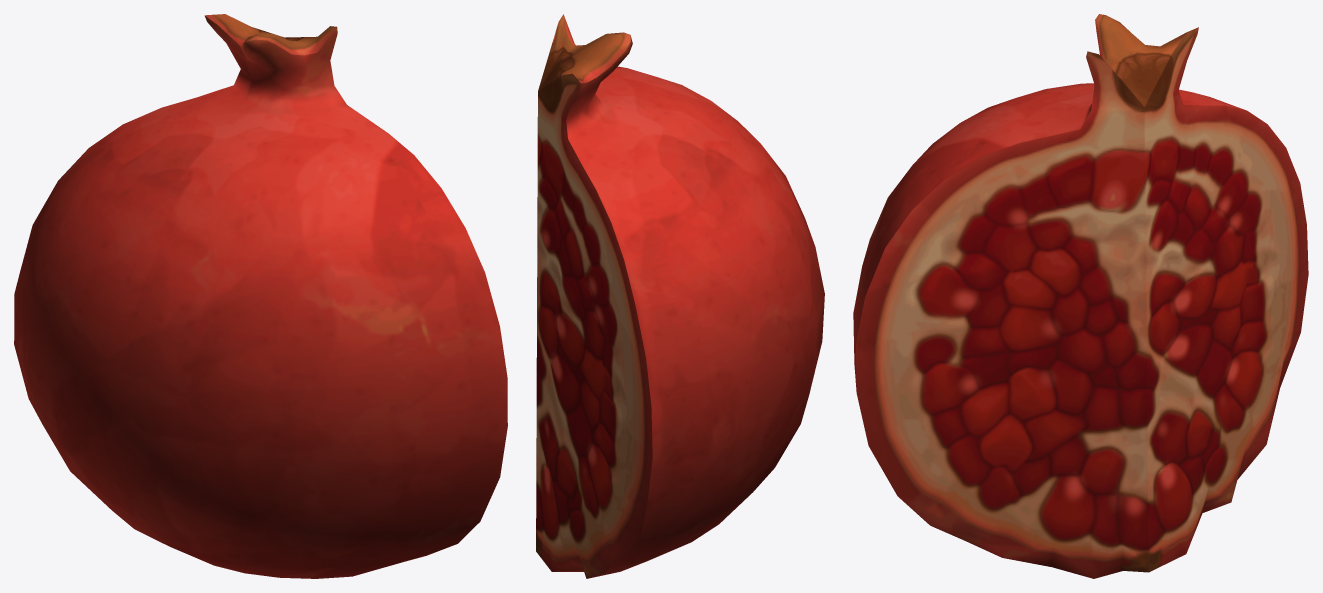
The model's file is SM_PomegranateCutA.fbx.
The picture shows the model from 3 angles, left to right: view 1: azimuth 30°, elevation 25°; view 2: azimuth 150°, elevation 25°; view 3: azimuth 270°, elevation 25°; orthographic projection. The views are drawn at different scales.
Parts seen in each view (by area): view 1: SM_PomegranateCutA; view 2: SM_PomegranateCutA; view 3: SM_PomegranateCutA.
Boxes of the visible parts, x1,y1,x2,y2 form: SM_PomegranateCutA: (14,14,507,578); SM_PomegranateCutA: (536,14,824,578); SM_PomegranateCutA: (853,14,1308,578).
Bounding box in the file's own units: 11.37 × 19.23 × 15.
